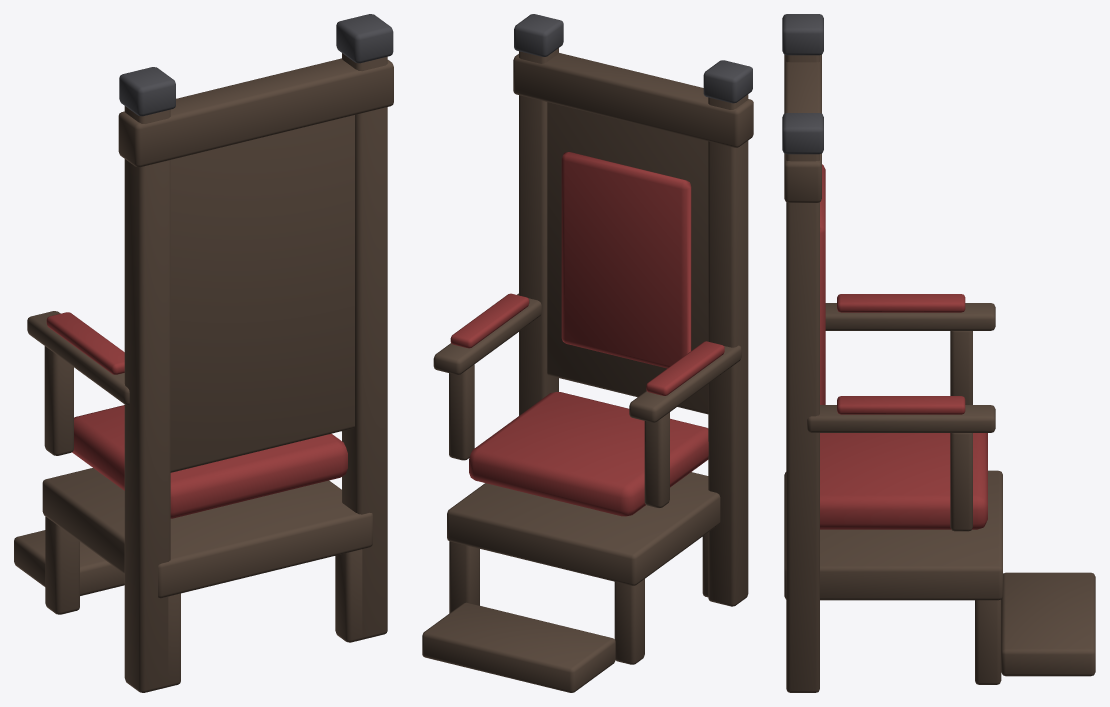
File: council_throne.glb
3 renders of one model, left to right at view 1: azimuth 30°, elevation 25°; view 2: azimuth 150°, elevation 25°; view 3: azimuth 270°, elevation 25°, orthographic. The views are drawn at different scales.
Parts seen in each view (by area): view 1: base; view 2: base; view 3: base.
Part boxes in pixels (<box>): base: <box>14,14,393,692</box>; base: <box>422,14,753,692</box>; base: <box>782,14,1095,692</box>.
Size of the model in its own units: 0.74 by 1.66 by 0.83.
